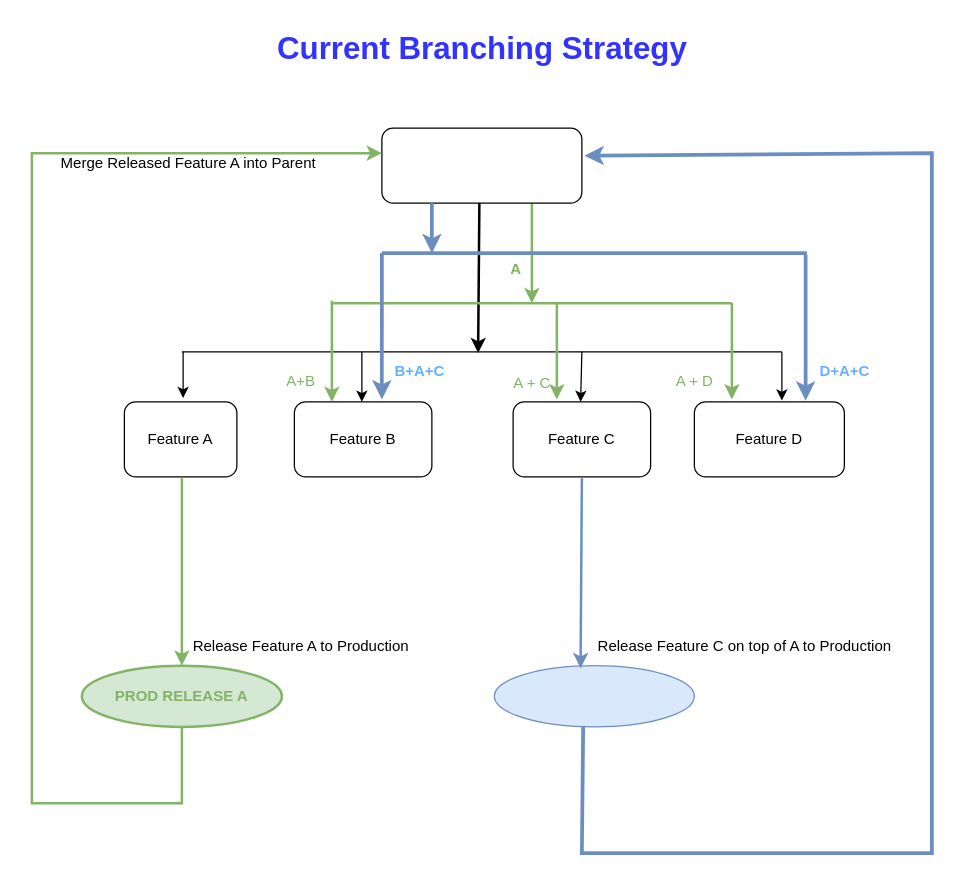
The diagram is 965 pixels wide and 886 high, and some of its shapes have lost their labels. Here are the shapes that lost their labels. From the top down, the box of each, then its label:
(381, 127, 582, 203): Parent Branch
(493, 664, 694, 727): PROD RELEASE A+C
